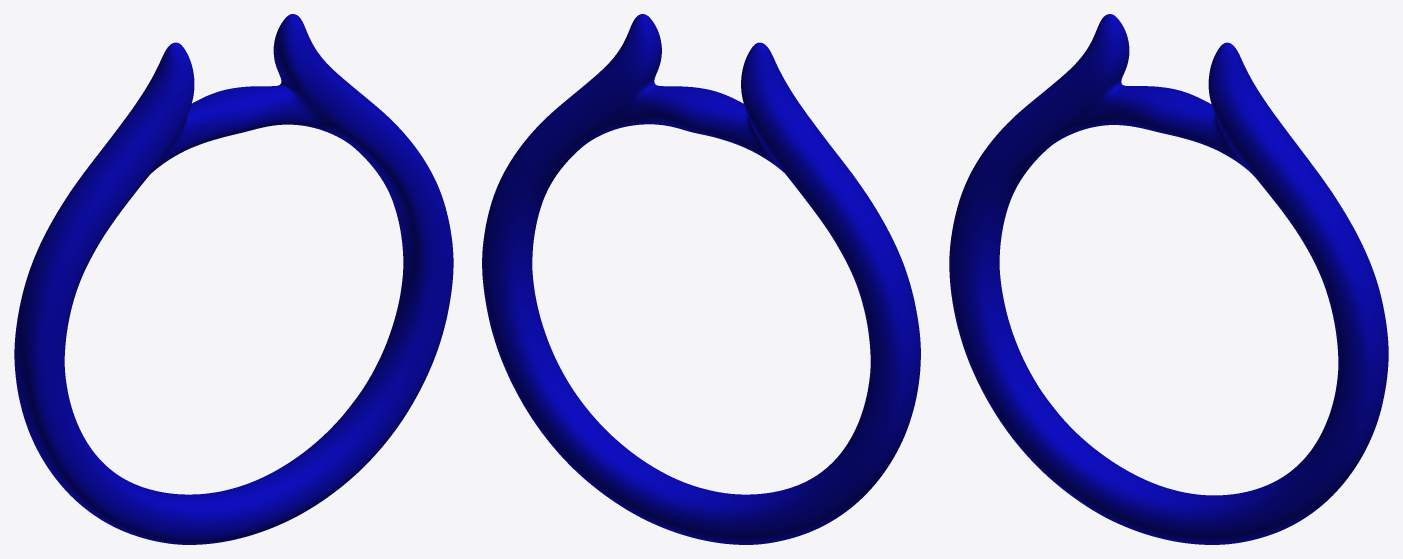
File: Shank.glb
3 views of the same model, side by side, from view 1: azimuth 30°, elevation 25°; view 2: azimuth 150°, elevation 25°; view 3: azimuth 330°, elevation 25° (orthographic).
Visible parts, largest first — view 1: /Shank 3 Single Halo.3dm; view 2: /Shank 3 Single Halo.3dm; view 3: /Shank 3 Single Halo.3dm.
Boxes of the visible parts, x1,y1,x2,y2 form: /Shank 3 Single Halo.3dm: (14,14,453,544); /Shank 3 Single Halo.3dm: (482,14,920,544); /Shank 3 Single Halo.3dm: (949,14,1388,544).
Size of the model in its own units: 20.83 by 23.64 by 2.26.
